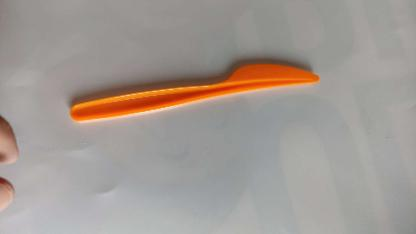Others: (66, 61, 320, 124)
